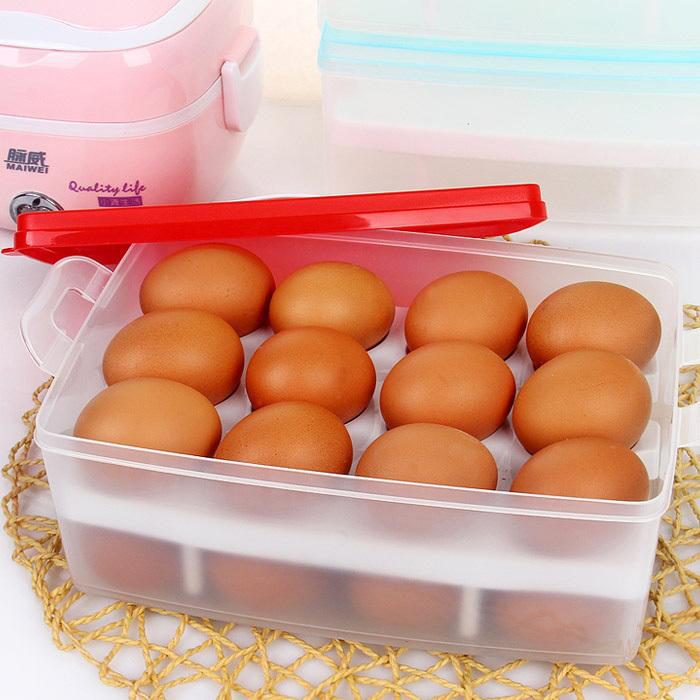egg: (69, 244, 662, 514)
